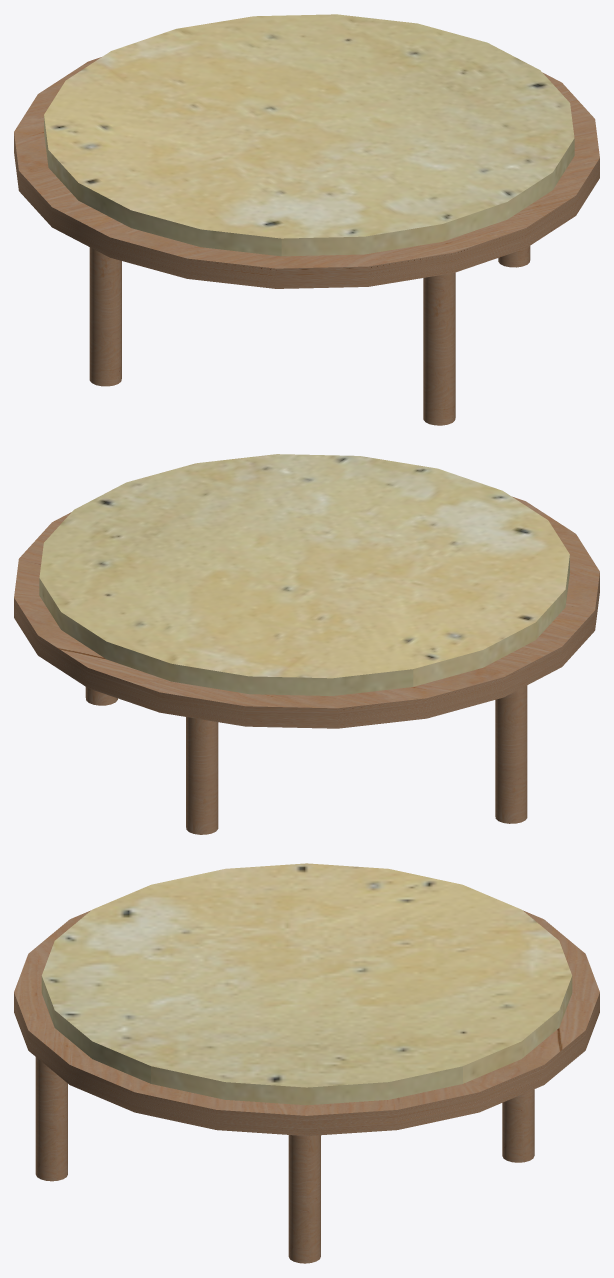
The model's file is pizza.gltf.
The picture shows the model from 3 angles, top to bottom: view 1: azimuth 30°, elevation 25°; view 2: azimuth 150°, elevation 25°; view 3: azimuth 270°, elevation 25°; orthographic projection.
Visible parts, largest first — view 1: Cylinder, Cylinder.71, Cylinder.74, Cylinder.75; view 2: Cylinder, Cylinder.71, Cylinder.75, Cylinder.72; view 3: Cylinder, Cylinder.71, Cylinder.73, Cylinder.74, Cylinder.72.
Boxes of the visible parts, x1=… form: Cylinder: x1=44, y1=14, x2=574, y2=256; Cylinder.71: x1=14, y1=57, x2=599, y2=288; Cylinder.74: x1=423, y1=272, x2=455, y2=425; Cylinder.75: x1=89, y1=247, x2=121, y2=386; Cylinder: x1=39, y1=454, x2=569, y2=695; Cylinder.71: x1=14, y1=496, x2=599, y2=728; Cylinder.75: x1=495, y1=685, x2=527, y2=823; Cylinder.72: x1=186, y1=717, x2=218, y2=834; Cylinder: x1=41, y1=863, x2=572, y2=1105; Cylinder.71: x1=14, y1=910, x2=599, y2=1135; Cylinder.73: x1=288, y1=1135, x2=320, y2=1263; Cylinder.74: x1=35, y1=1057, x2=67, y2=1181; Cylinder.72: x1=502, y1=1089, x2=534, y2=1162.
Bounding box in the file's own units: 18.21 × 6.89 × 18.21.
Materials: 2 (2 with a texture image).
